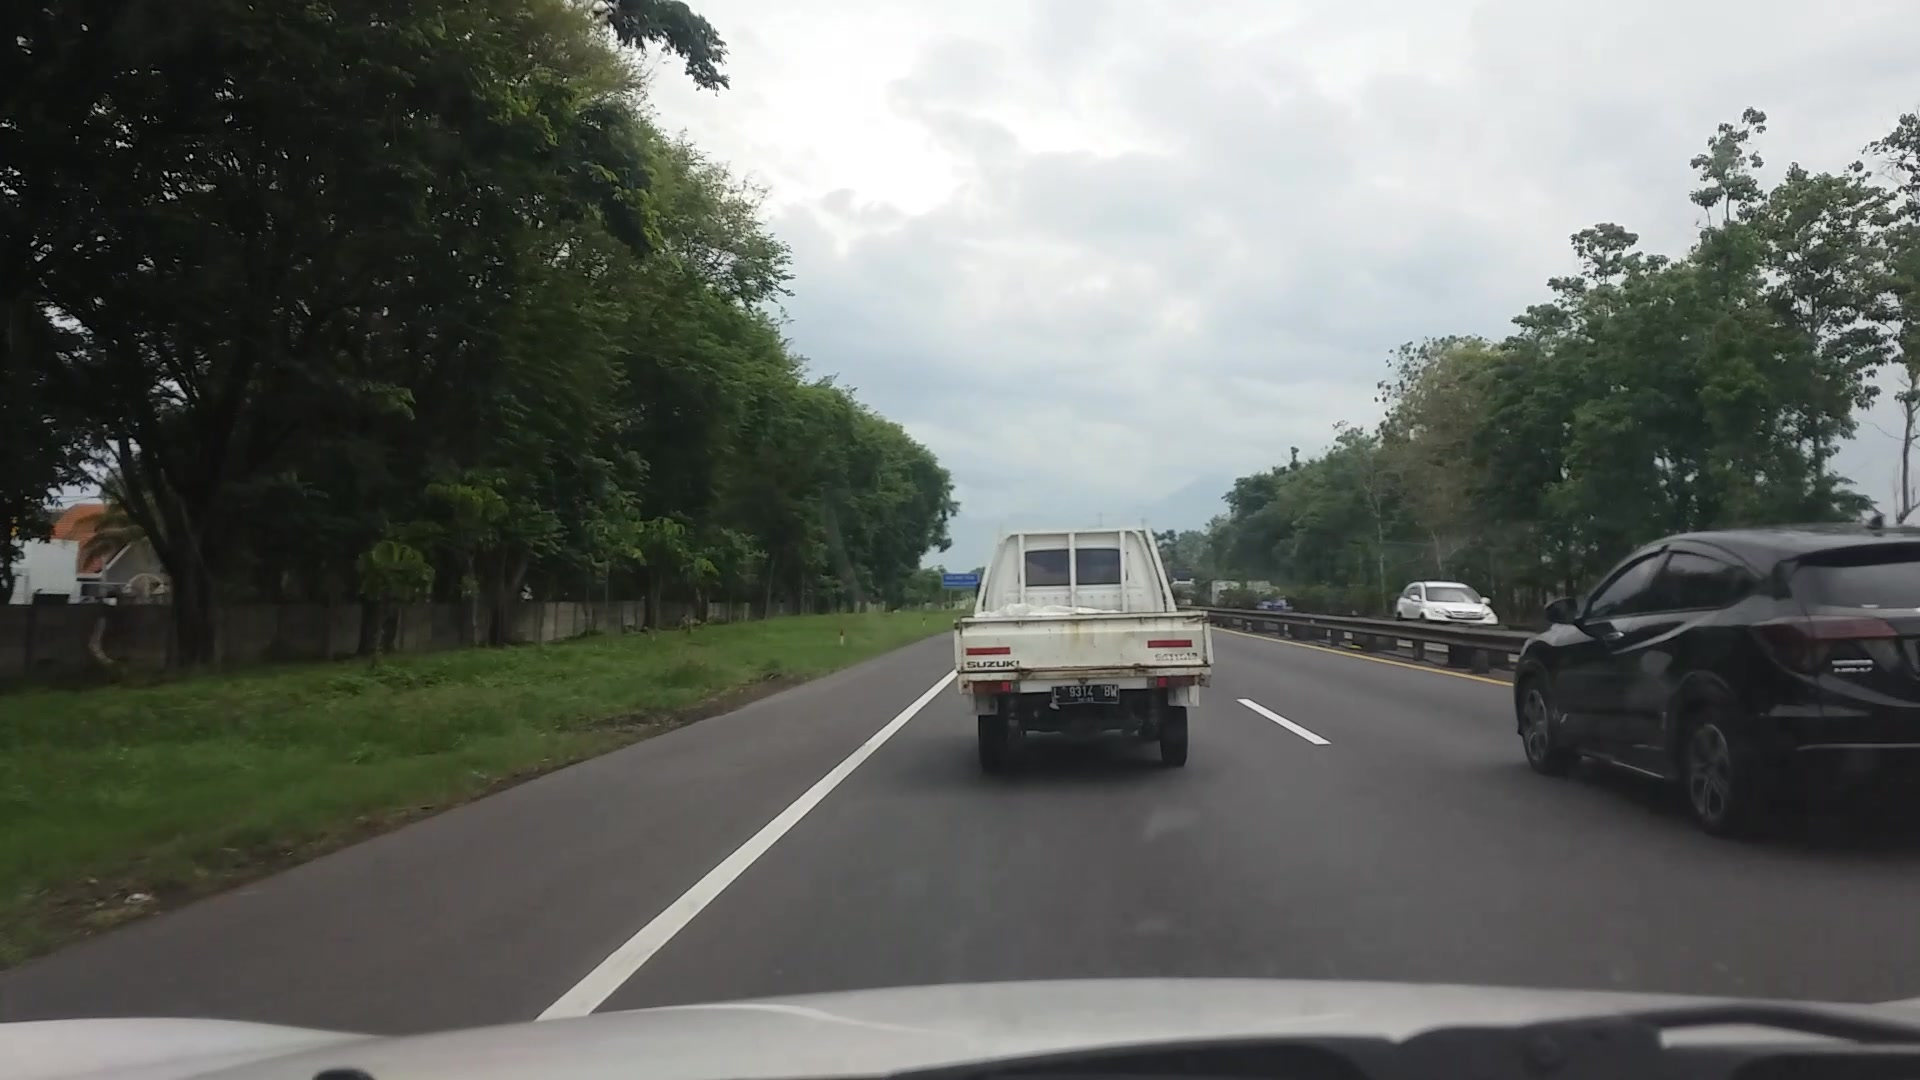plate_positive: (1051, 684, 1120, 705)
